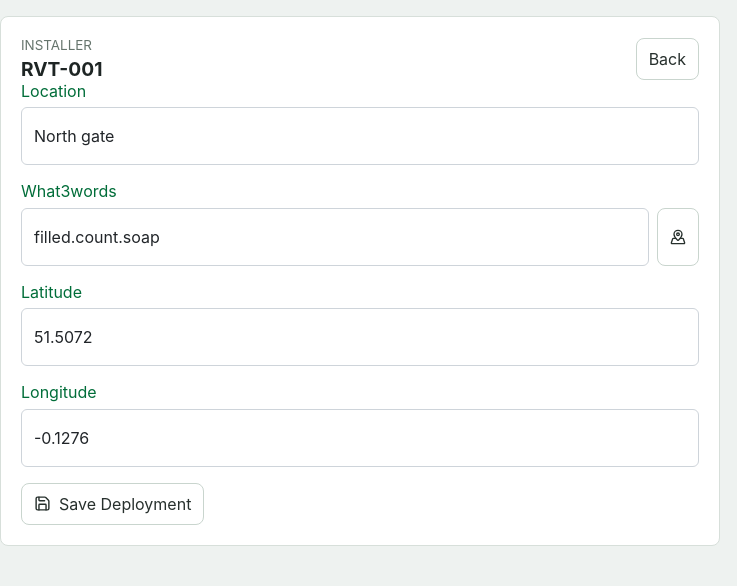
Installer deployment coordinates › rejects a cleared coordinate with a field error instead of saving 0, 0
Clear the field showing "51.5072". click: x=360, y=337
box: [21, 308, 699, 366]
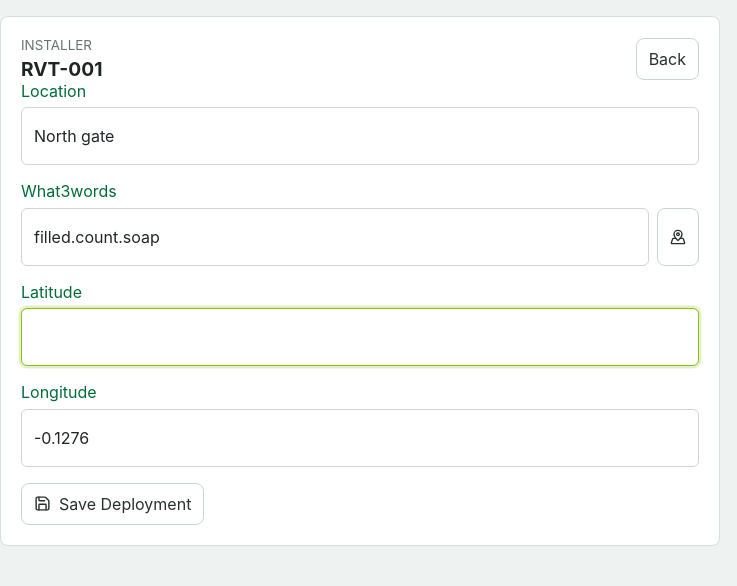
Click the button "Save Deployment". click: x=113, y=504
box: [21, 483, 204, 525]
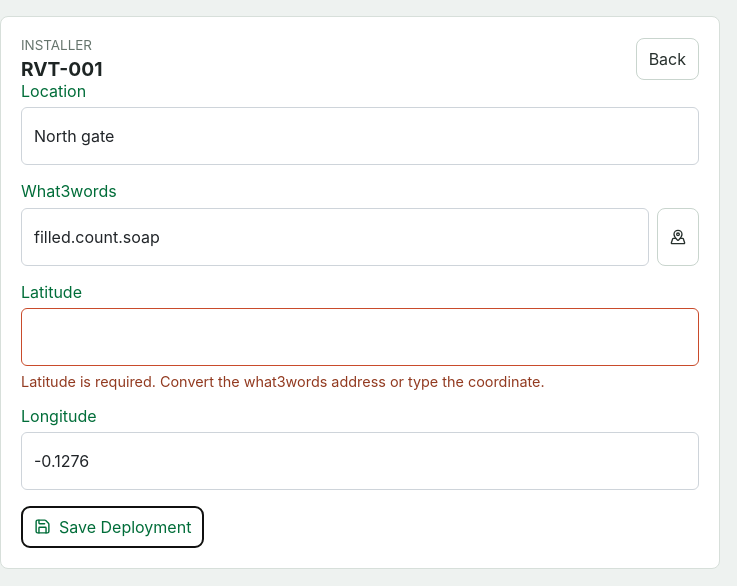
Check: the text "Latitude is required" is shown, box [21, 373, 545, 390]
